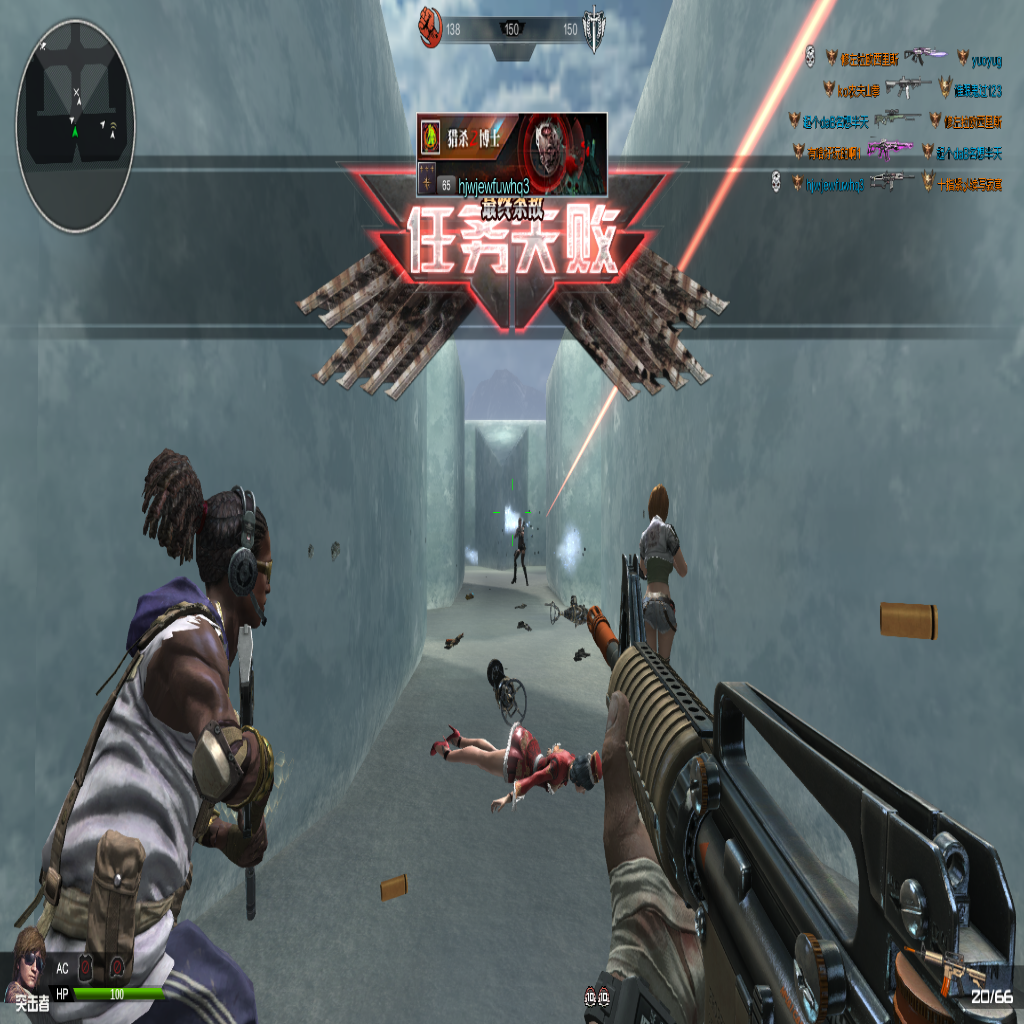ct: (510, 511, 527, 588)
